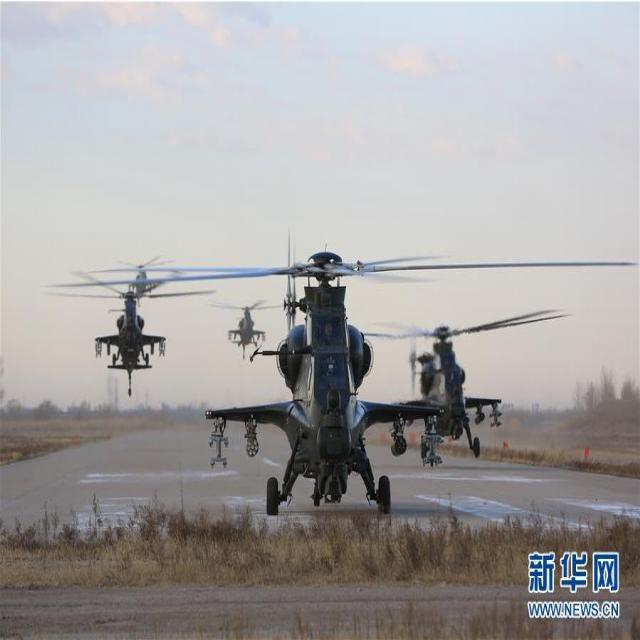MIL_HELO: (63, 239, 624, 520), (352, 305, 585, 465), (58, 261, 181, 385)
